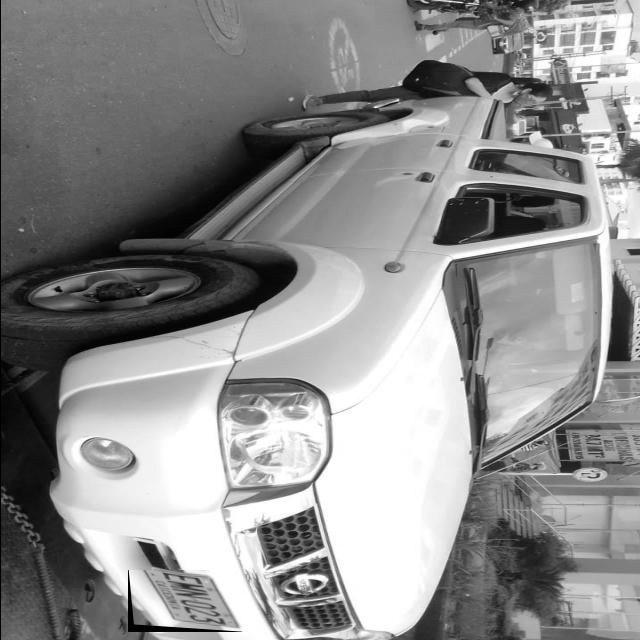plate: (131, 570, 241, 632)
